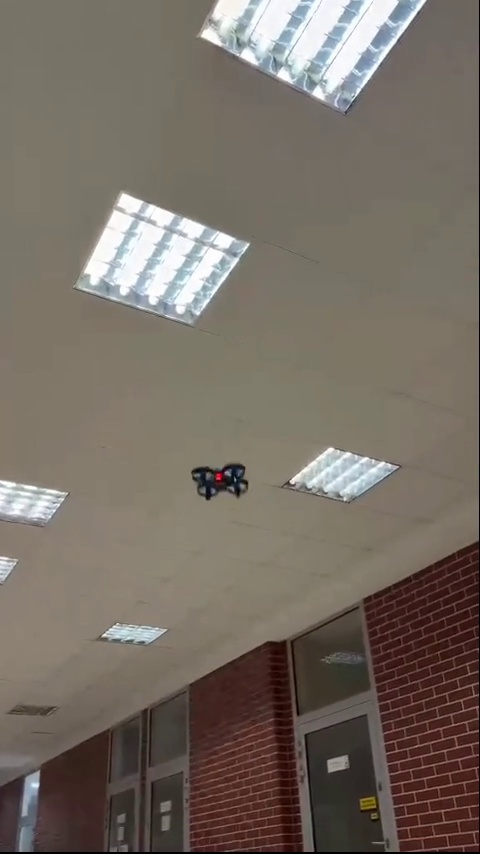drone: (191, 460, 249, 499)
